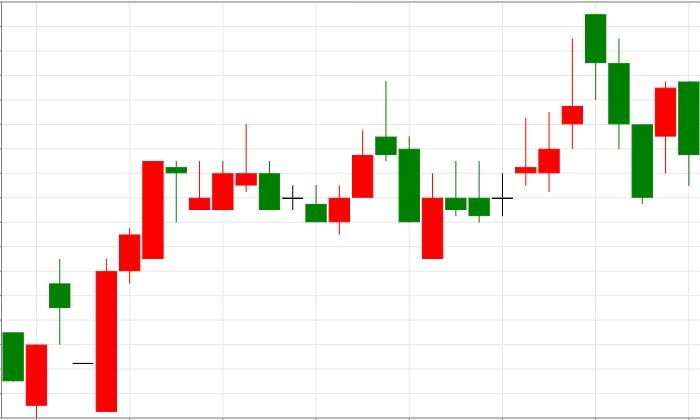shooting_star_fall: (305, 80, 397, 234)
three_black_crows_fall: (422, 13, 654, 259)
